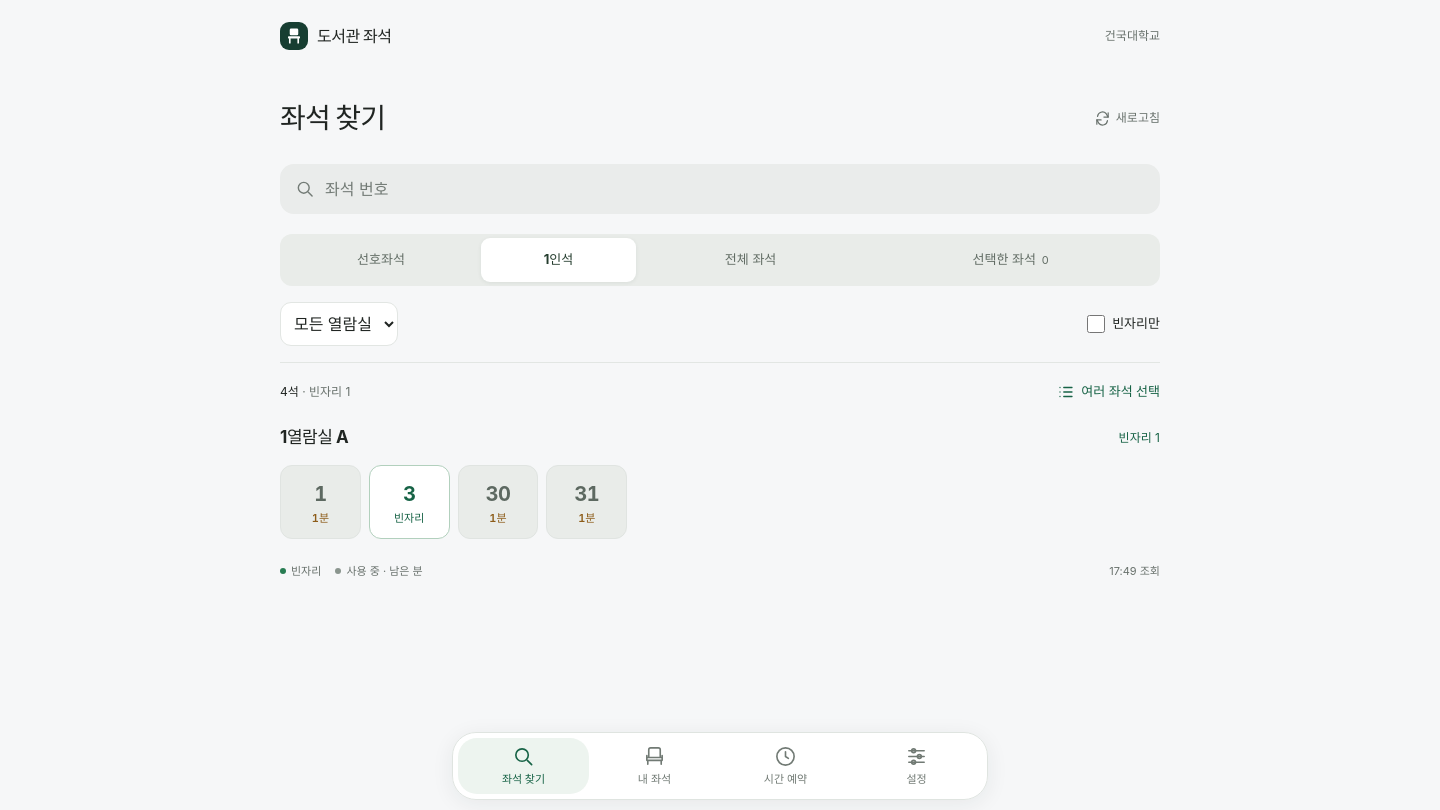
Test: React app with the existing account API › selects a future seat from its details without booking
Expected: the heading "좌석 찾기" is shown, [280,100,385,136]
Click the button named "1열람실 A 1번 1분 상세 보기" at [320, 502], box [280,464,361,538]
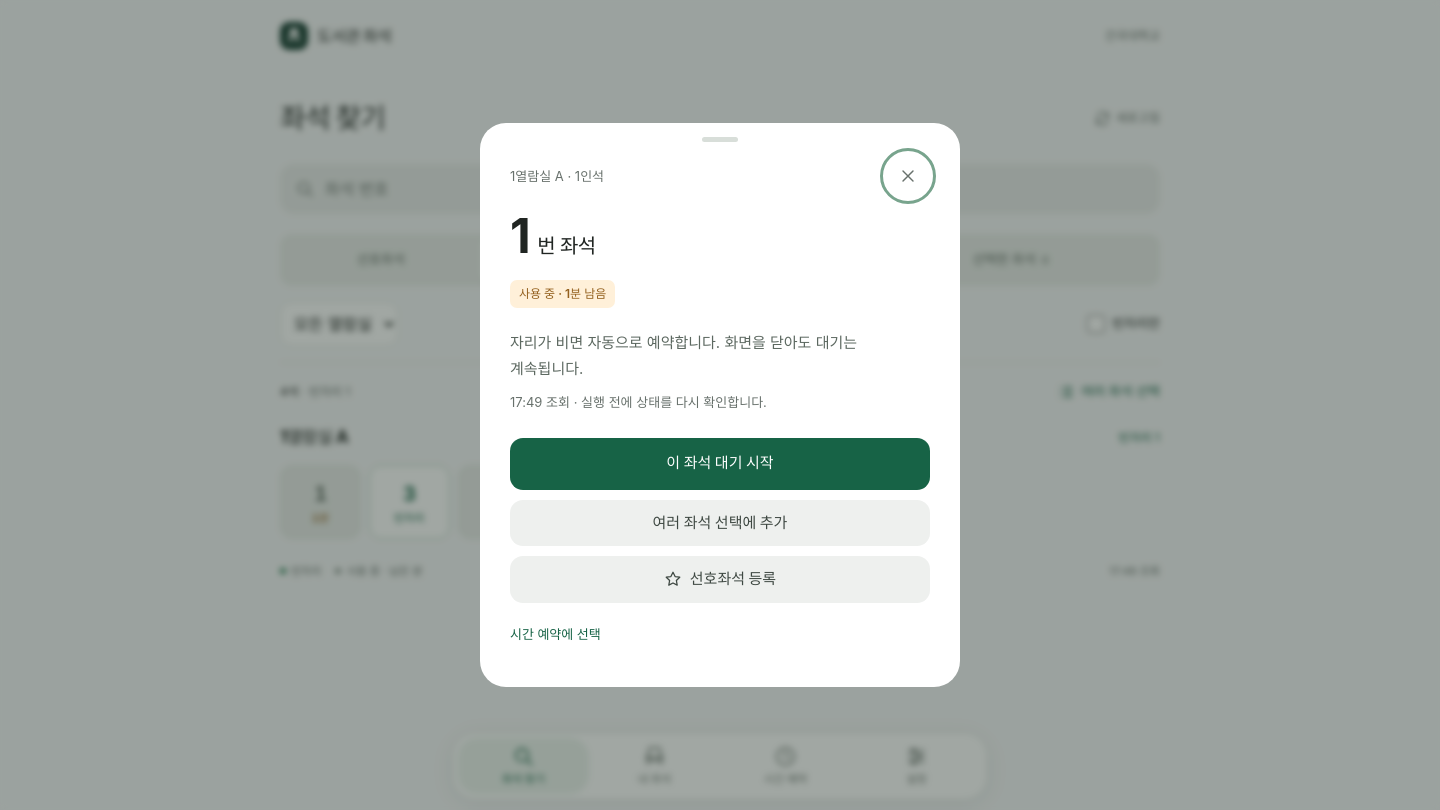
Click the button "시간 예약에 선택" at [555, 634], box [510,613,930,657]
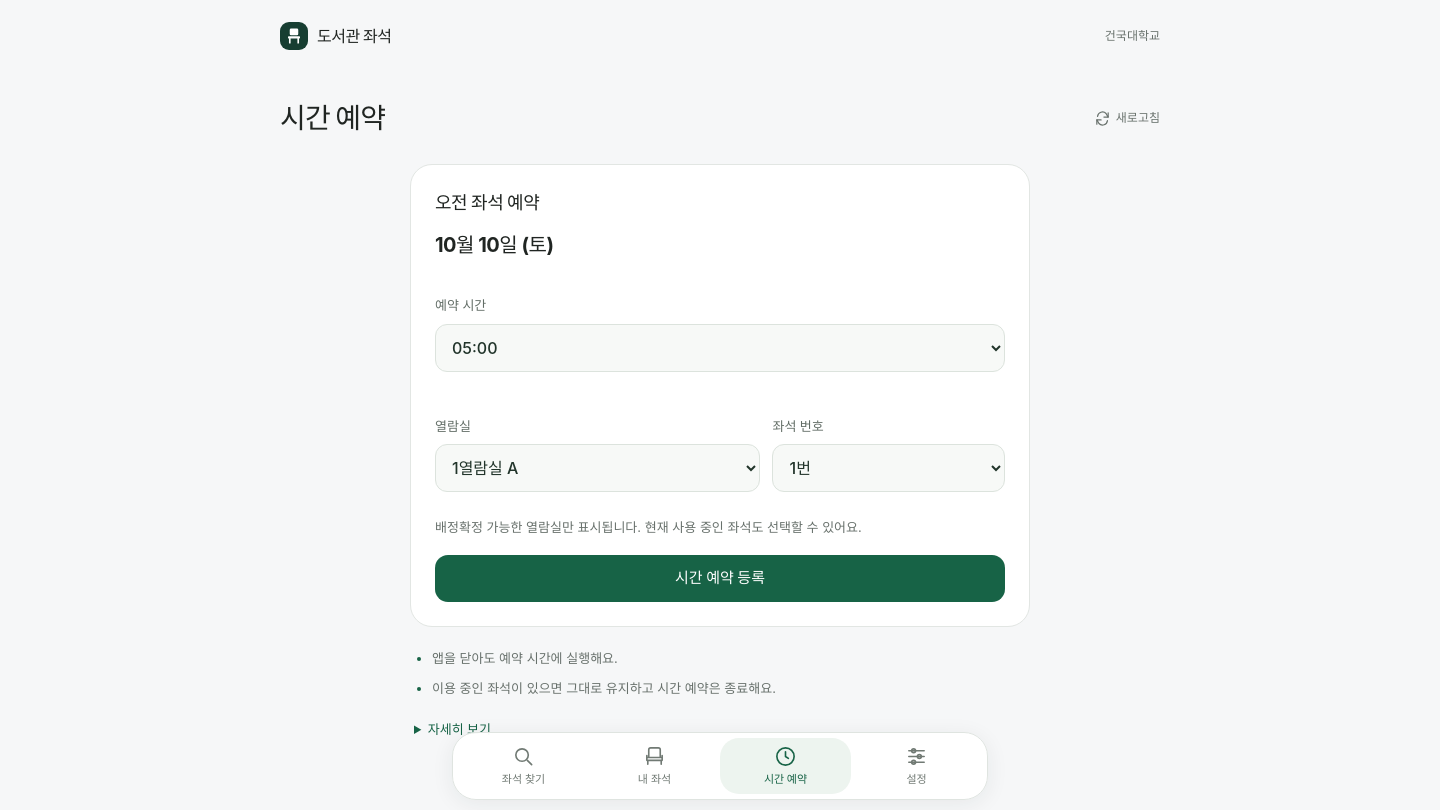
Now the heading "시간 예약" is shown, box [280,100,385,136]
Now the dropdown named "시간 예약 좌석 번호" shows "1번", box [772,444,1005,492]
